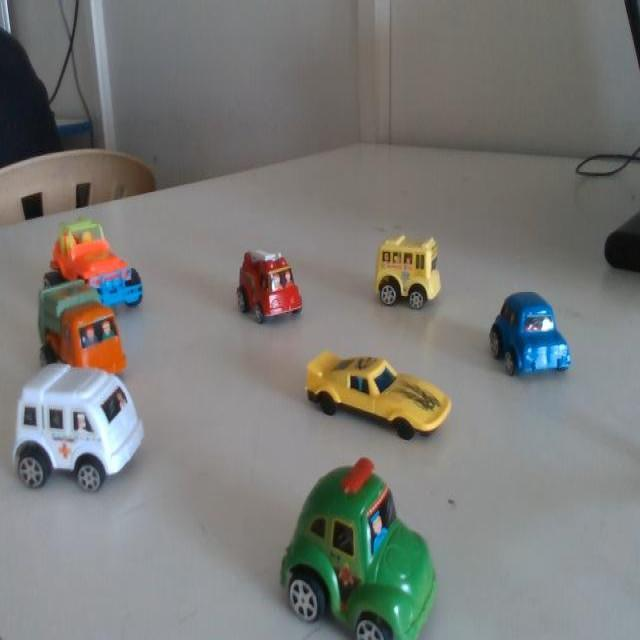car: (17, 338, 162, 518), (293, 468, 443, 639), (315, 337, 443, 455), (70, 214, 150, 314), (367, 230, 450, 326), (230, 236, 303, 341), (53, 272, 117, 384), (500, 288, 572, 382)
